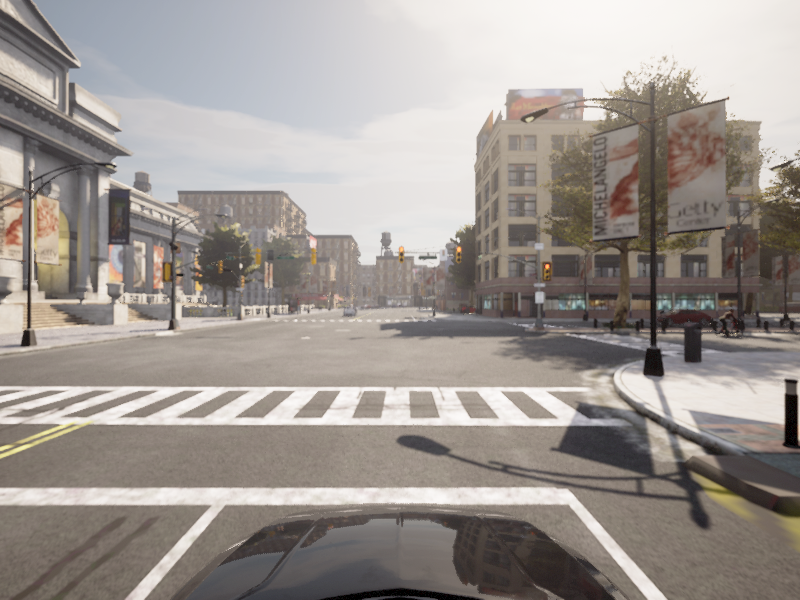vehicle: (646, 308, 715, 326), (710, 309, 747, 337)
